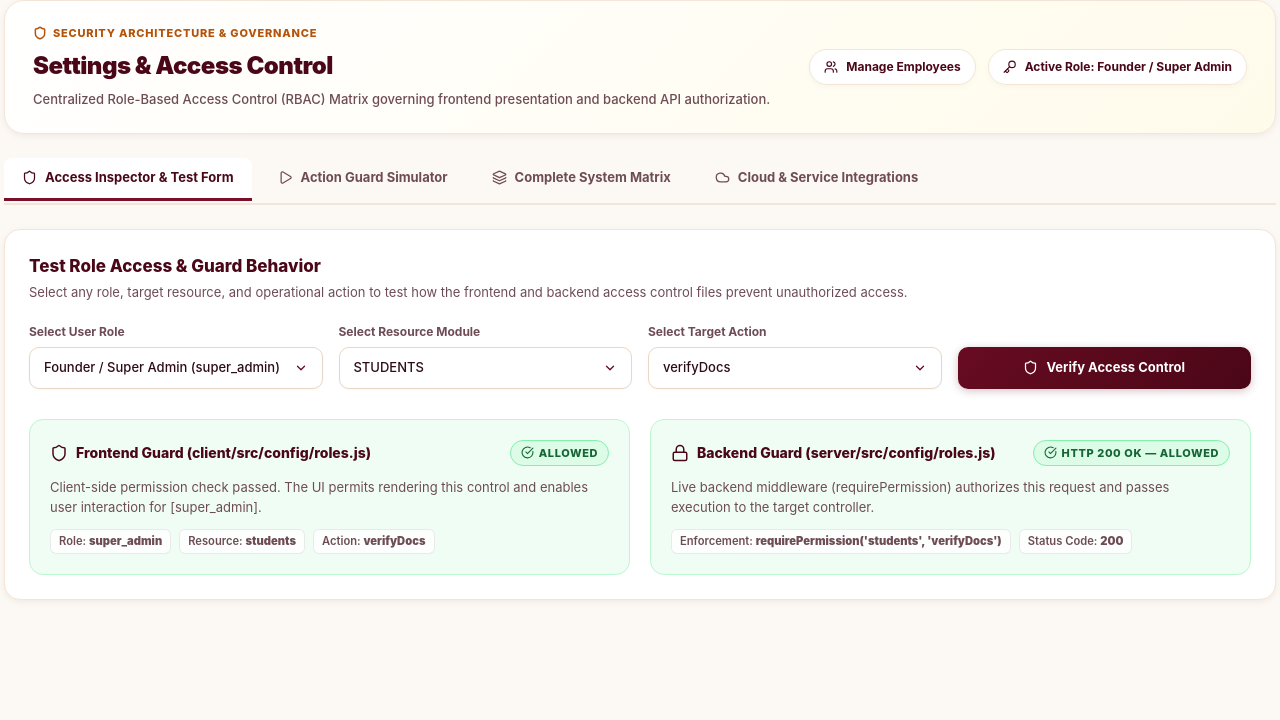
Scenario: Role-Based Access Control (RBAC) Client Suite & SettingsPage Form › 2. SettingsPage Inspector & Test Form UI › switches to Action Guard Simulator tab and executes mock action
This screenshot has width=1280, height=720.
Step 1. Click the button "Action Guard Simulator" → click(363, 179), box [260,158,466,200]
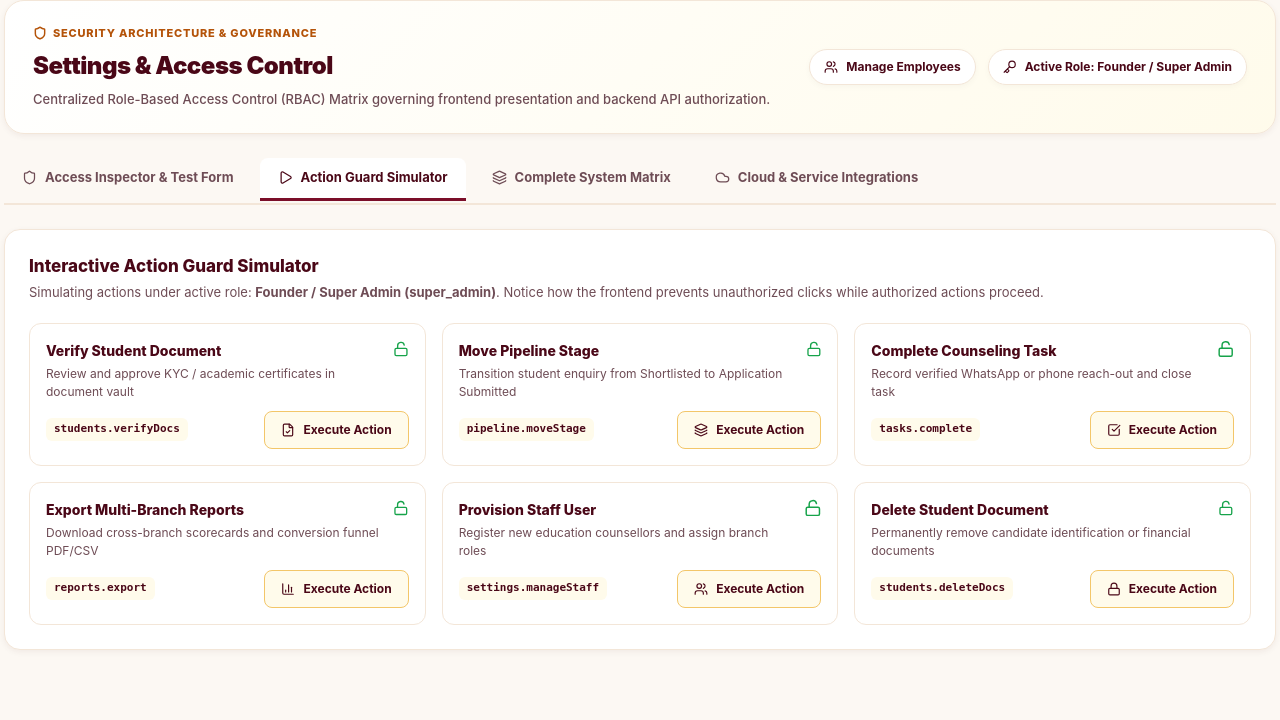
Check: the heading "Interactive Action Guard Simulator" is shown, box [29,256,319,276]
Check: the button "Execute Action" next to "verifyDocs" is shown
Note: Click first allowed action
Step 2. Click the button "Execute Action" next to "verifyDocs" → click(337, 430), box [264,410,409,448]
(page scrolled)
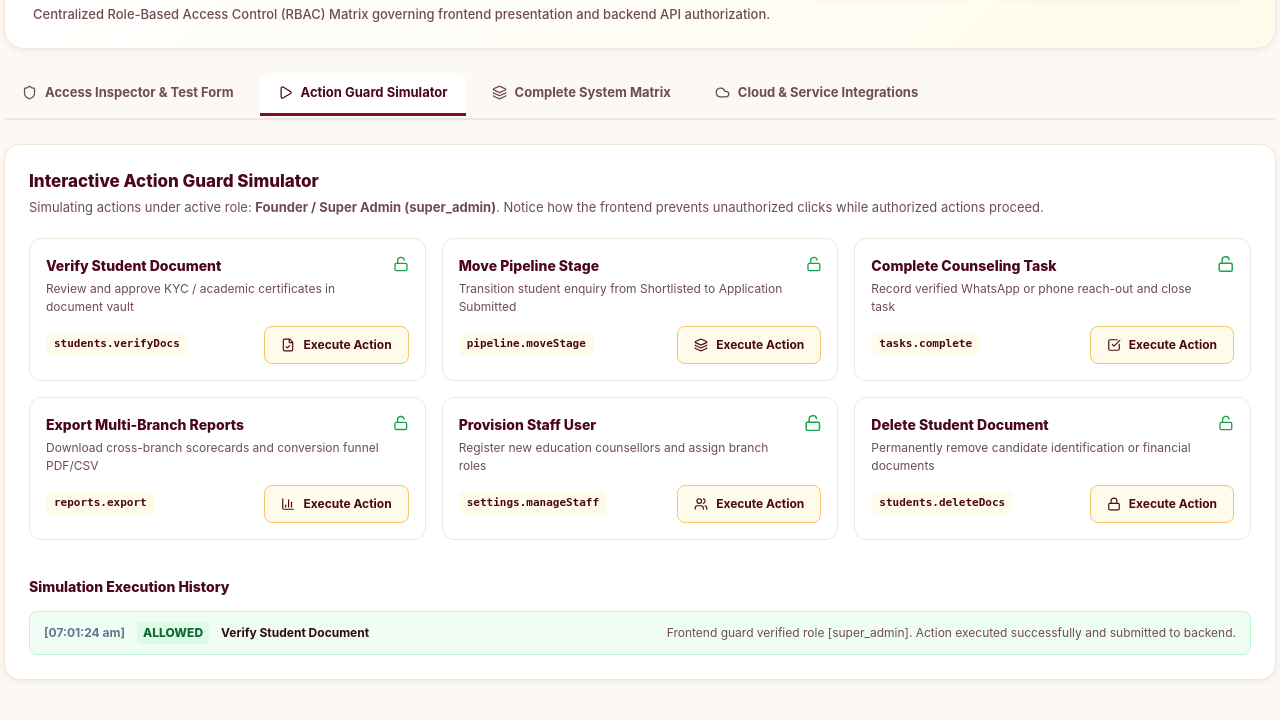
Check: the heading "Simulation Execution History" is shown, box [29,578,230,594]
Check: the text "ALLOWED" is shown, box [137,622,209,644]
